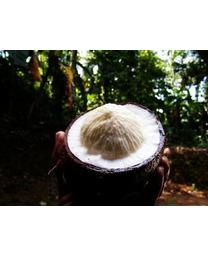coconut: (63, 101, 162, 175)
